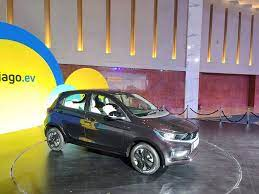Tiago: (42, 88, 203, 177)
